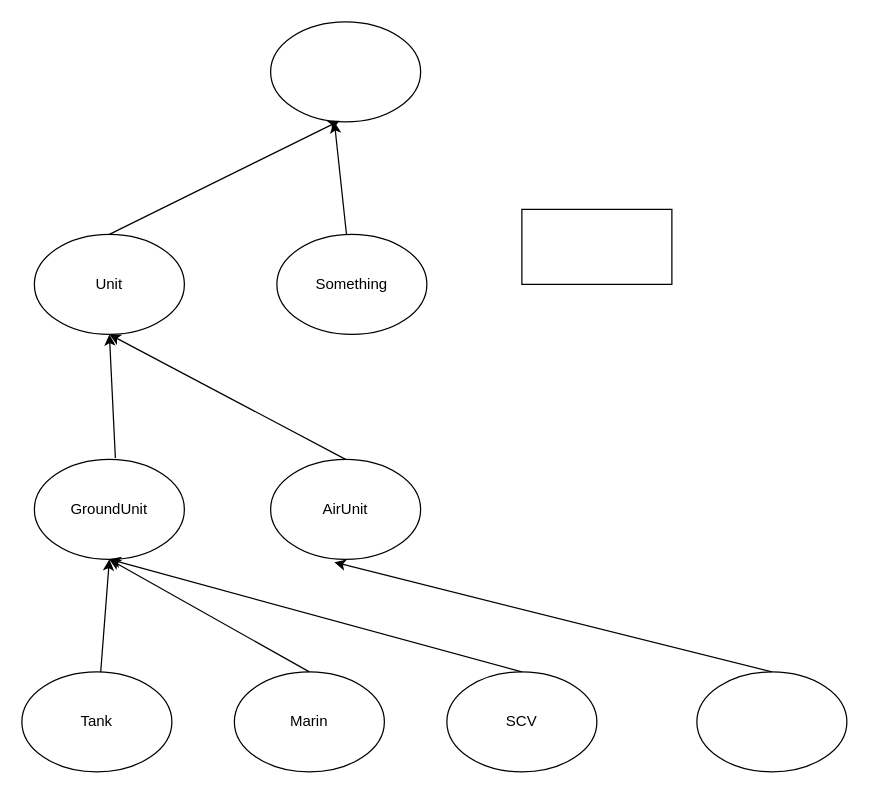
The diagram is 869 pixels wide and 794 high, and some of its shapes have lost their labels. Here are the shapes that lost their labels. From the top down, the centre of each, then its label:
At [345,71]: "Object".
At [596,246]: "Repairable".
At [771,721]: "Drop".
